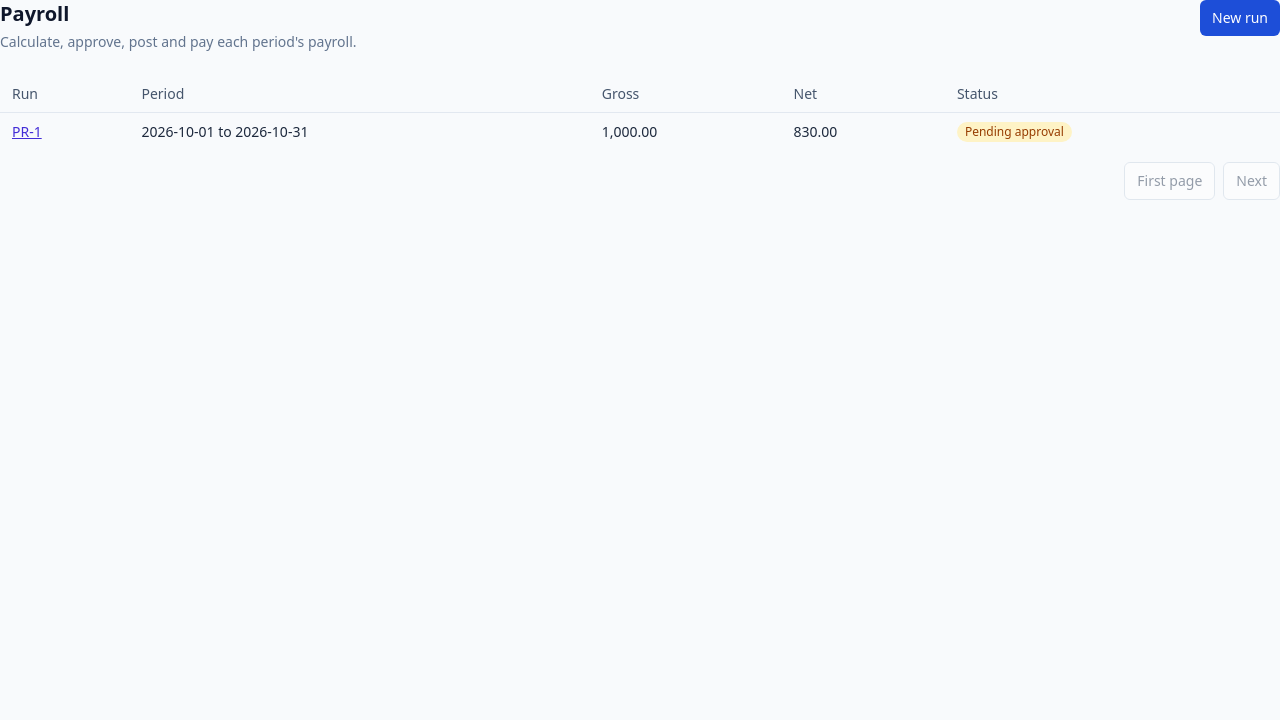
Test: PayrollPage › workflow-governed runs point to the approval inbox instead of offering approve
Click the button "PR-1": (27, 132) [12,122,42,142]
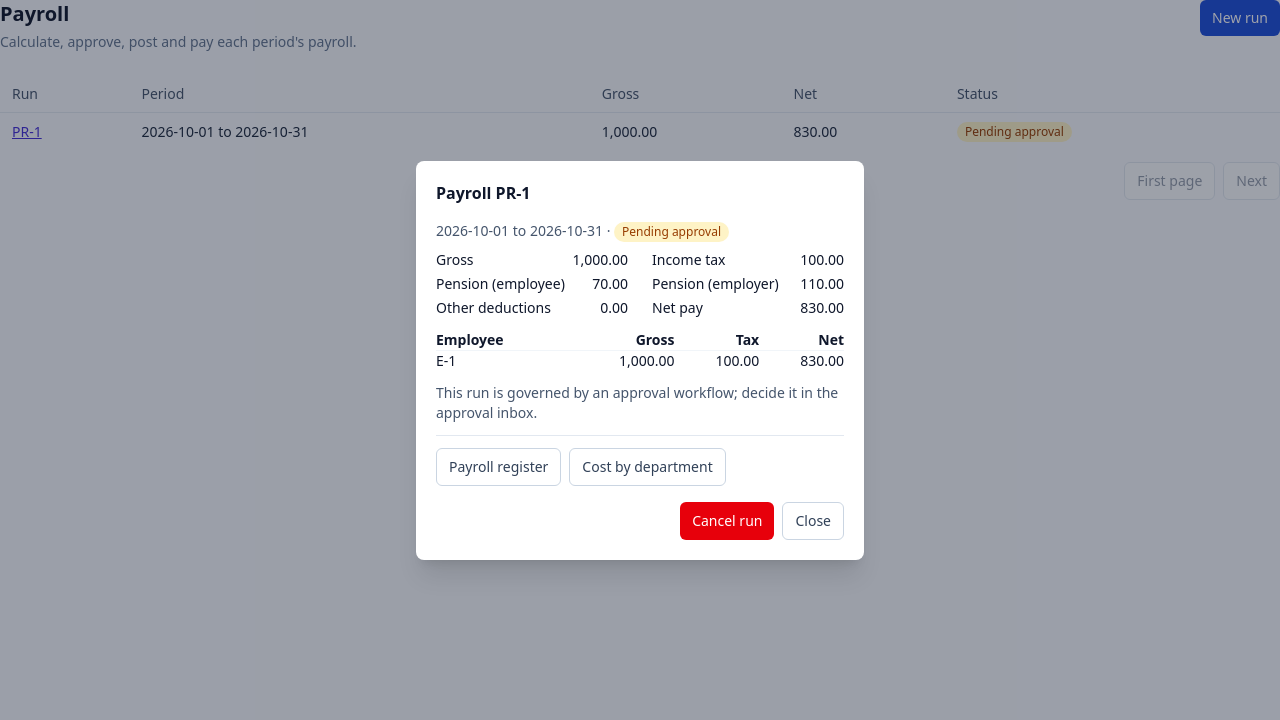
Expected: the text "approval inbox" is shown, [436,382,838,422]
